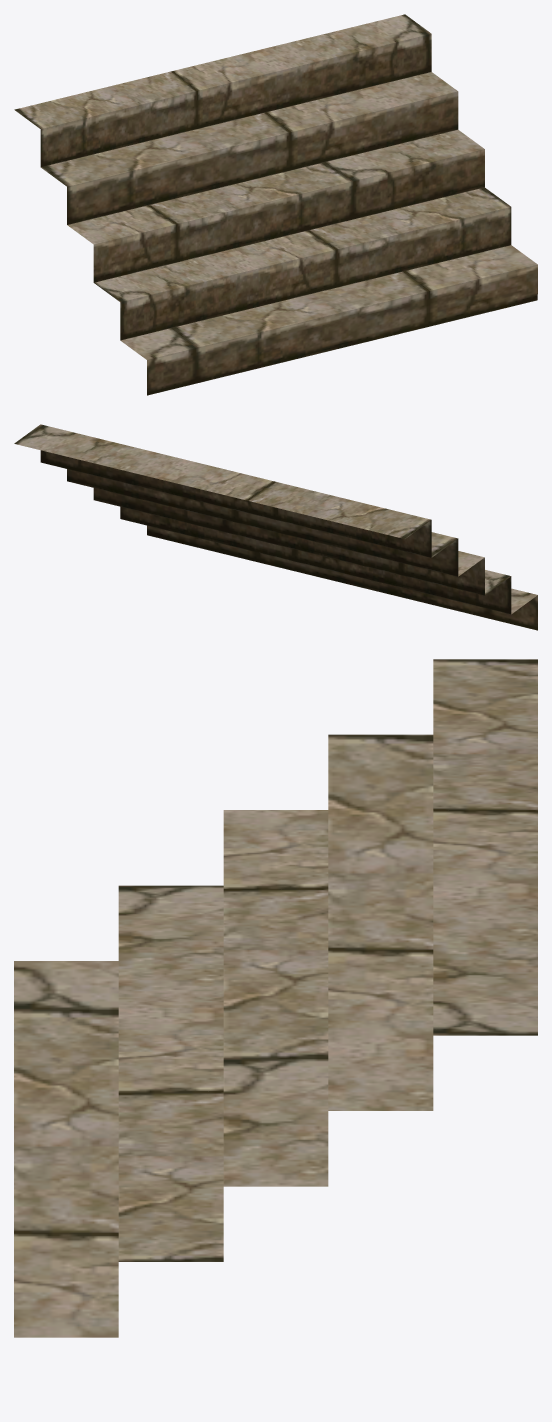
The model's file is OVERHILL_A_01_OBJECT76.fbx.
3 renders of one model, top to bottom at view 1: azimuth 30°, elevation 25°; view 2: azimuth 150°, elevation 25°; view 3: azimuth 270°, elevation 25°, orthographic. The views are drawn at different scales.
Visible parts, largest first — view 1: OVERHILL_A_01_OBJECT76; view 2: OVERHILL_A_01_OBJECT76; view 3: OVERHILL_A_01_OBJECT76.
Part boxes in pixels (x1,y1,x2,y2): OVERHILL_A_01_OBJECT76: (14, 14, 537, 395); OVERHILL_A_01_OBJECT76: (14, 424, 537, 630); OVERHILL_A_01_OBJECT76: (14, 659, 537, 1337).
Size of the model in its own units: 34001 by 15672 by 20000.
Materials: 1 (1 with a texture image).
